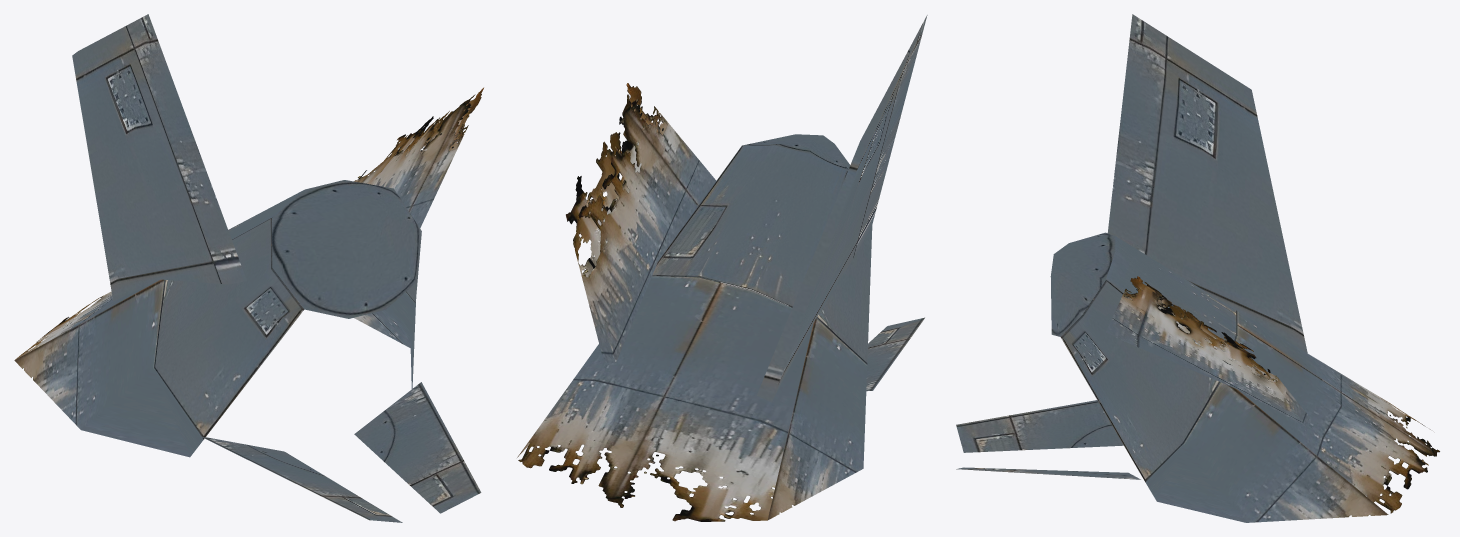
Rendered from crashtail_hdtex.glb.
The picture shows the model from 3 angles, left to right: view 1: azimuth 30°, elevation 25°; view 2: azimuth 150°, elevation 25°; view 3: azimuth 270°, elevation 25°; orthographic projection. The views are drawn at different scales.
Parts seen in each view (by area): view 1: Crash Tail; view 2: Crash Tail; view 3: Crash Tail.
Boxes of the visible parts, x1,y1,x2,y2 form: Crash Tail: [14, 14, 483, 522]; Crash Tail: [517, 15, 927, 521]; Crash Tail: [956, 14, 1439, 522].
Size of the model in its own units: 31.07 by 40.24 by 47.07.
Materials: 2 (2 with a texture image).
